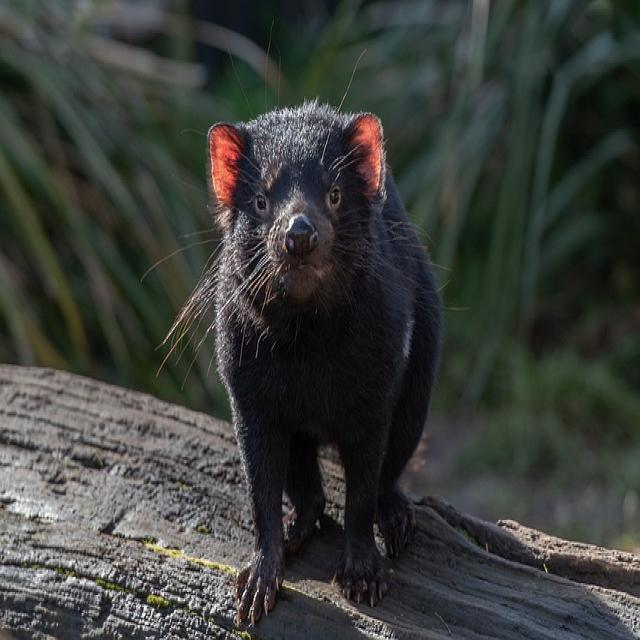Carnivorous: (206, 100, 445, 628)
